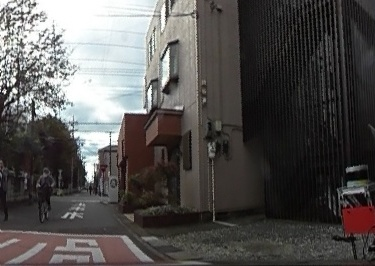person: (36, 166, 55, 207)
